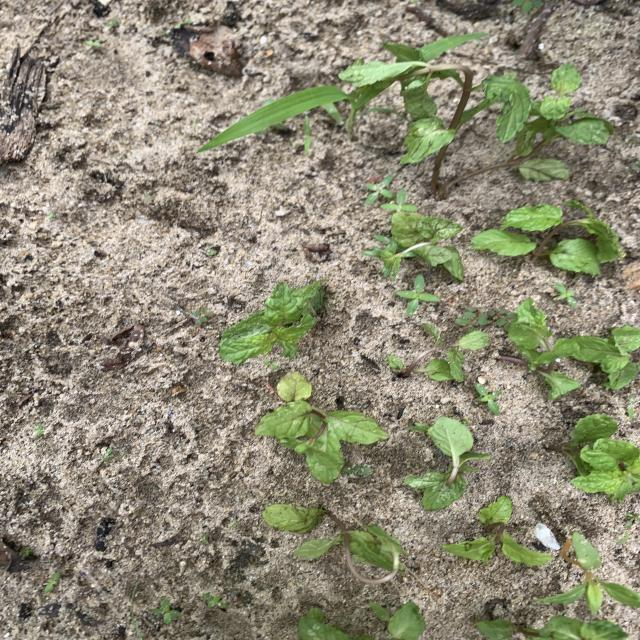crop: (339, 61, 473, 192), (478, 65, 612, 179), (255, 372, 386, 483), (263, 506, 407, 587), (472, 203, 622, 273), (220, 280, 326, 363), (405, 418, 491, 509), (548, 415, 639, 500), (502, 299, 579, 398), (443, 497, 543, 563), (365, 213, 463, 280), (386, 324, 487, 381), (575, 326, 639, 388), (476, 616, 628, 639)
weed: (200, 81, 394, 151), (537, 532, 640, 615), (419, 34, 487, 60), (397, 276, 439, 314), (382, 190, 416, 212), (366, 175, 392, 203), (476, 384, 499, 413), (457, 308, 491, 326), (154, 599, 179, 623), (555, 283, 575, 305), (191, 307, 214, 324), (492, 309, 514, 326), (203, 593, 227, 608), (303, 115, 311, 154), (512, 1, 543, 11), (45, 572, 59, 591), (345, 466, 372, 475), (626, 513, 639, 526), (102, 448, 114, 461), (86, 40, 101, 48), (265, 360, 278, 369), (22, 547, 33, 557), (618, 535, 629, 543), (106, 19, 117, 27), (35, 424, 43, 435), (462, 418, 470, 424)
